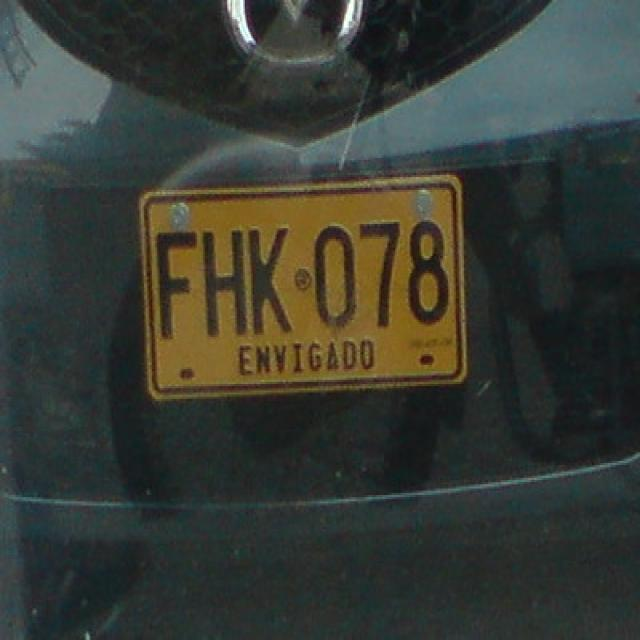placa_carro: (130, 156, 490, 416)
